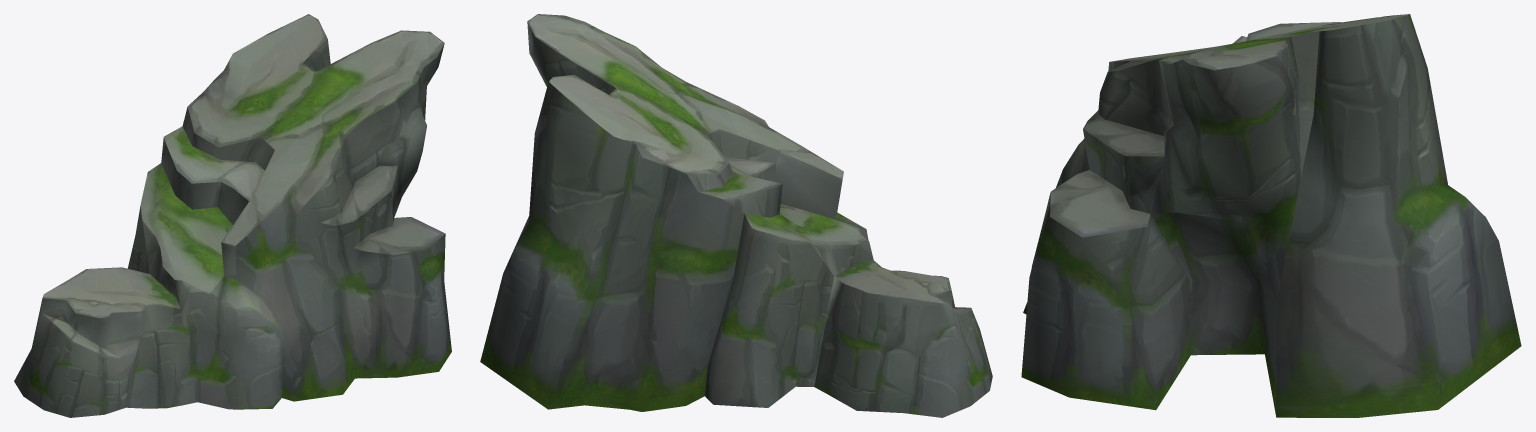
The model's file is scene_malujiakuangdao_shan05.FBX.
The picture shows the model from 3 angles, left to right: view 1: azimuth 30°, elevation 25°; view 2: azimuth 150°, elevation 25°; view 3: azimuth 270°, elevation 25°; orthographic projection. The views are drawn at different scales.
Visible parts, largest first — view 1: scene_malujiakuangdao_shan05; view 2: scene_malujiakuangdao_shan05; view 3: scene_malujiakuangdao_shan05.
Boxes of the visible parts, x1=… form: scene_malujiakuangdao_shan05: x1=14, y1=14, x2=451, y2=417; scene_malujiakuangdao_shan05: x1=480, y1=14, x2=992, y2=417; scene_malujiakuangdao_shan05: x1=1021, y1=14, x2=1521, y2=417.
Size of the model in its own units: 1391 by 844 by 1057.
